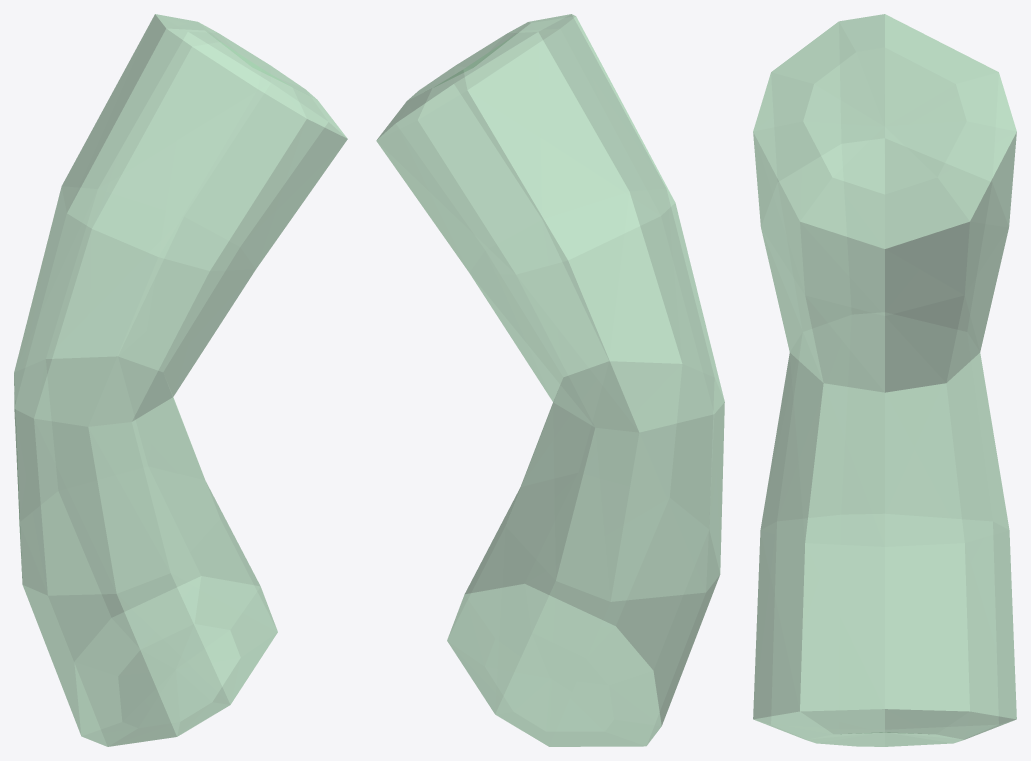
File: Mitochondria_01.fbx
The picture shows the model from 3 angles, left to right: view 1: azimuth 30°, elevation 25°; view 2: azimuth 150°, elevation 25°; view 3: azimuth 270°, elevation 25°; orthographic projection. The views are drawn at different scales.
Parts seen in each view (by area): view 1: Mitochondria_01; view 2: Mitochondria_01; view 3: Mitochondria_01.
Part boxes in pixels (x1=…): Mitochondria_01: x1=14, y1=14, x2=347, y2=746; Mitochondria_01: x1=376, y1=14, x2=724, y2=746; Mitochondria_01: x1=753, y1=14, x2=1016, y2=746.
Bounding box in the file's own units: 89.17 × 186 × 58.49.
